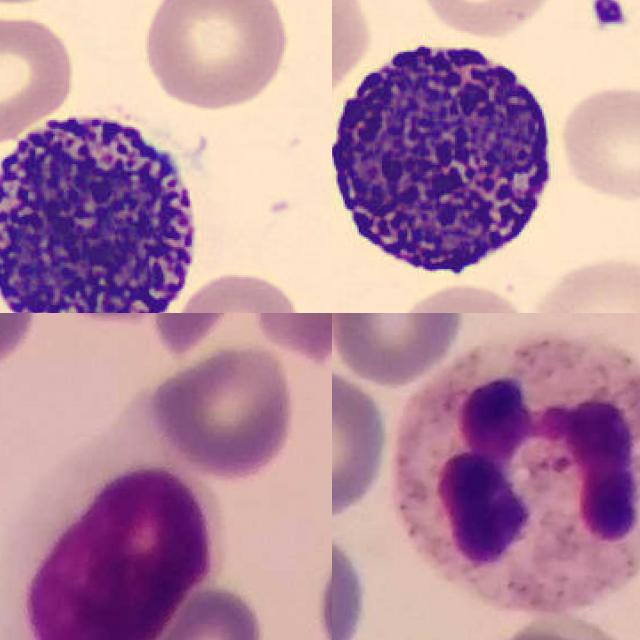Basophil: (332, 22, 566, 299), (0, 93, 209, 313)
Lymphocyte: (14, 445, 225, 640)
Neutrophil: (391, 335, 640, 607)
Platelets: (586, 0, 632, 34)
RBC: (136, 0, 293, 113), (0, 9, 80, 145), (554, 82, 640, 203), (526, 249, 640, 313), (168, 268, 309, 313), (412, 0, 563, 41), (384, 277, 544, 313), (332, 0, 375, 104)
